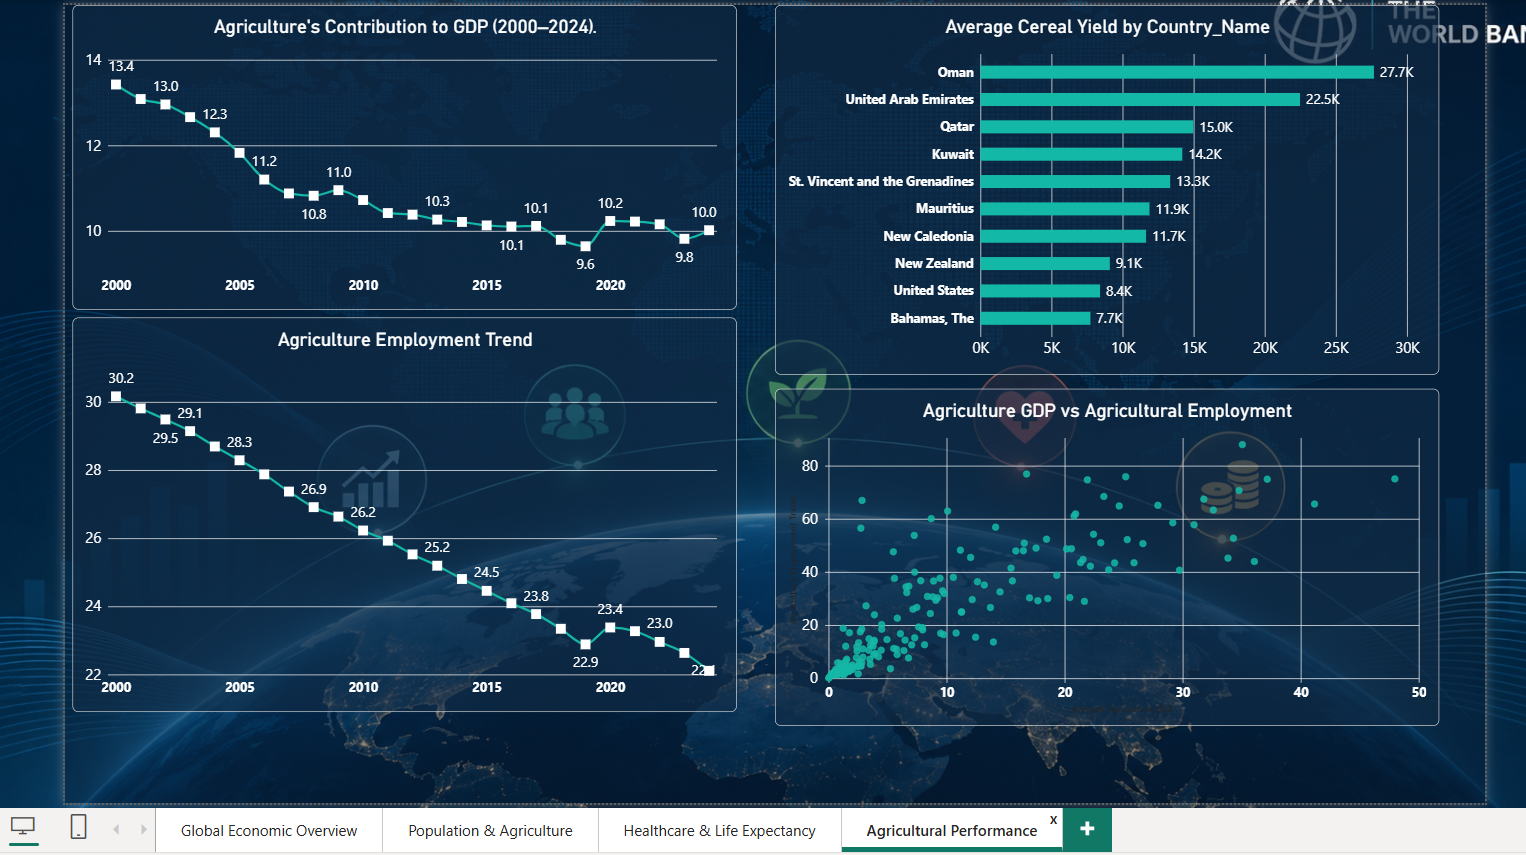

This screenshot's page, from the dashboard's own definition file:
{"tool":"powerbi","page":{"name":"\tAgricultural Performance","canvas":[1920,1080],"ordinal":3},"visuals":[{"type":"lineChart","title":"Agriculture''s Contribution to GDP (2000–2024).","fields":{"Category":["worldbank_global_cleaned.Year"],"Y":["worldbank_global_cleaned.Agriculture GDP Trend"]},"box":[10.5,0,898.2,412.3],"z":0},{"type":"lineChart","title":"Agriculture Employment Trend","fields":{"Category":["worldbank_global_cleaned.Year"],"Y":["worldbank_global_cleaned.Agriculture Employment Trend"]},"box":[10.5,422.8,898.2,533.3],"z":1000},{"type":"clusteredBarChart","fields":{"Category":["worldbank_global_cleaned.Country_Name"],"Y":["worldbank_global_cleaned.Average Cereal Yield"]},"box":[959.6,0,898.2,500],"z":2000},{"type":"scatterChart","title":"Agriculture GDP vs Agricultural Employment","fields":{"Category":["worldbank_global_cleaned.Country_Name"],"X":["worldbank_global_cleaned.Average Agriculture GDP"],"Y":["worldbank_global_cleaned.Agriculture Employment Trend"]},"box":[959.6,519.3,898,456],"z":3000}]}

Visuals, with their boxes on the page's 1920x1080 design canvas (x1, y1, x2, y2). These are canvas units, not pixel positions in the 1526x855 screenshot, which may show the page scaled, cropped or inside an application window:
"Agriculture''s Contribution to GDP (2000–2024)." lineChart: [10,0,909,412]
"Agriculture Employment Trend" lineChart: [10,423,909,956]
clusteredBarChart - worldbank_global_cleaned.Country_Name x worldbank_global_cleaned.Average Cereal Yield: [960,0,1858,500]
"Agriculture GDP vs Agricultural Employment" scatterChart: [960,519,1858,975]
